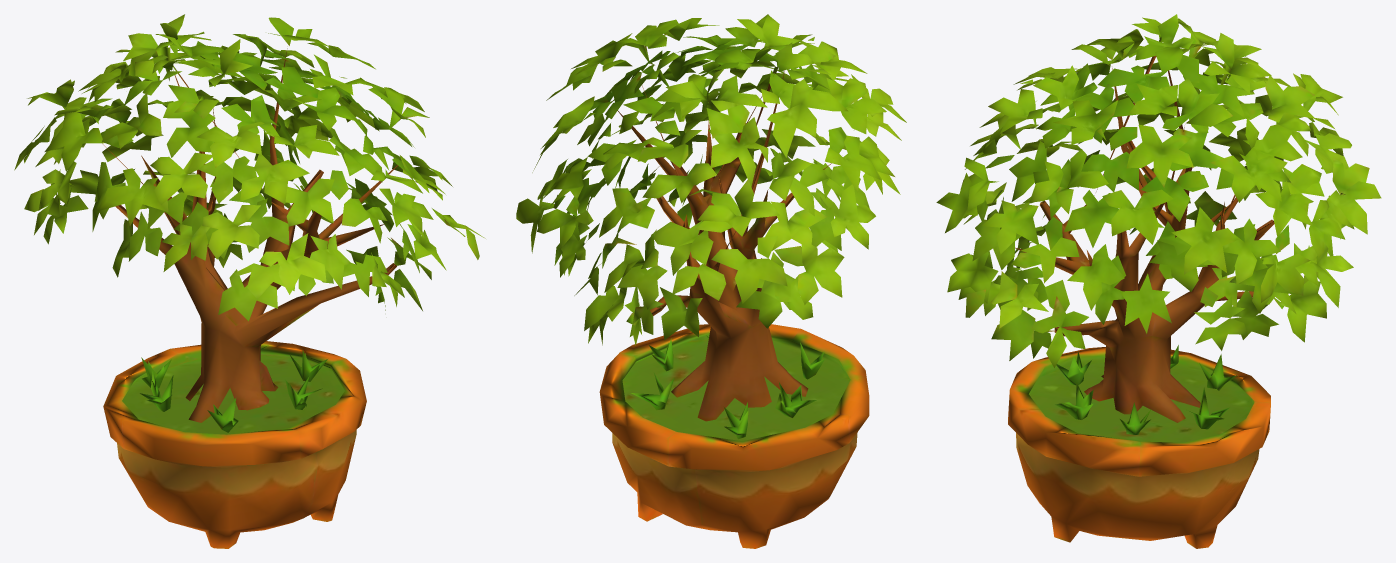
The picture shows the model from 3 angles, left to right: view 1: azimuth 30°, elevation 25°; view 2: azimuth 150°, elevation 25°; view 3: azimuth 270°, elevation 25°; orthographic projection. The views are drawn at different scales.
Parts seen in each view (by area): view 1: tripo_node_07a46118-98e2-43c6-9ccf-f2419a23b63f; view 2: tripo_node_07a46118-98e2-43c6-9ccf-f2419a23b63f; view 3: tripo_node_07a46118-98e2-43c6-9ccf-f2419a23b63f.
Boxes of the visible parts, left/top/right/bottom form: tripo_node_07a46118-98e2-43c6-9ccf-f2419a23b63f: left=14, top=14, right=485, bottom=548; tripo_node_07a46118-98e2-43c6-9ccf-f2419a23b63f: left=516, top=14, right=906, bottom=548; tripo_node_07a46118-98e2-43c6-9ccf-f2419a23b63f: left=936, top=14, right=1381, bottom=548.
Bounding box in the file's own units: 1.73 × 2.28 × 1.91.
Materials: 1 (1 with a texture image).
